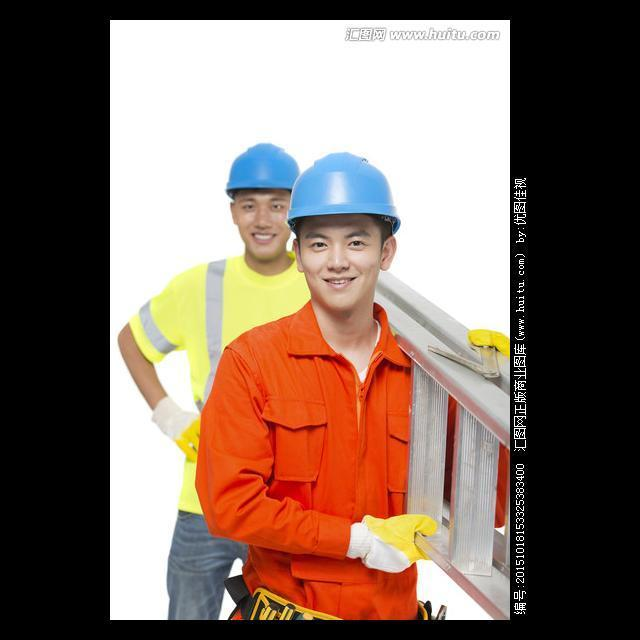helmet: (278, 152, 420, 235), (220, 142, 308, 200)
safety_vest: (138, 248, 297, 344)
